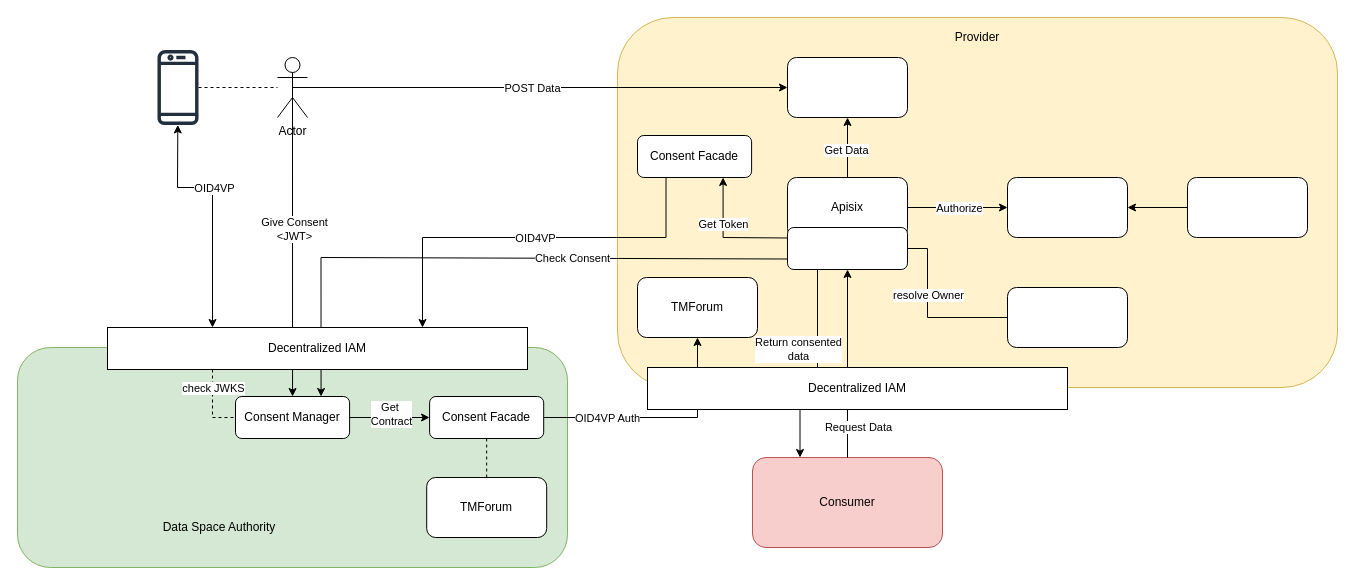
Image size: 1355x585. Some labels were removed from this diagram. The shapes that lost their labels are listed below. From the top down, each one's centre as x and y in pixels, then its label:
At [847,87]: "Scorpio".
At [1067,207]: "PDP".
At [1247,207]: "PAP".
At [847,248]: "Consent Plugin".
At [1067,317]: "Owner Resolver (PIP)".
